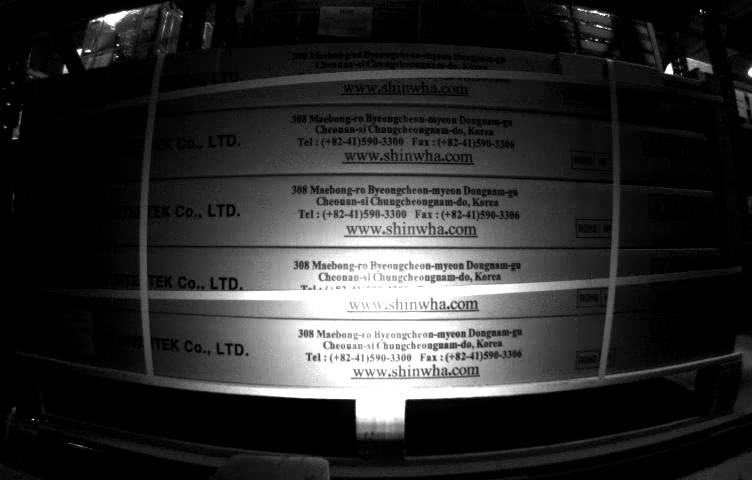True Barcode: (47, 310, 91, 355)
